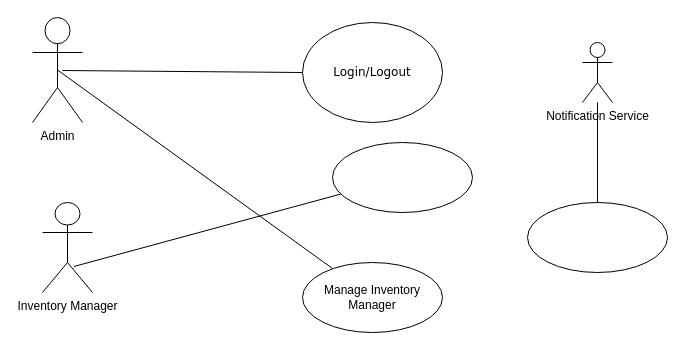
The diagram is 685 pixels wide and 350 high, and some of its shapes have lost their labels. The shapes that lost their labels are listed below. From the top down, each one's box as (x1, y1, x2, y2) in pixels, then its label:
(332, 142, 472, 212): Place Order
(526, 202, 668, 272): Manage Notification
